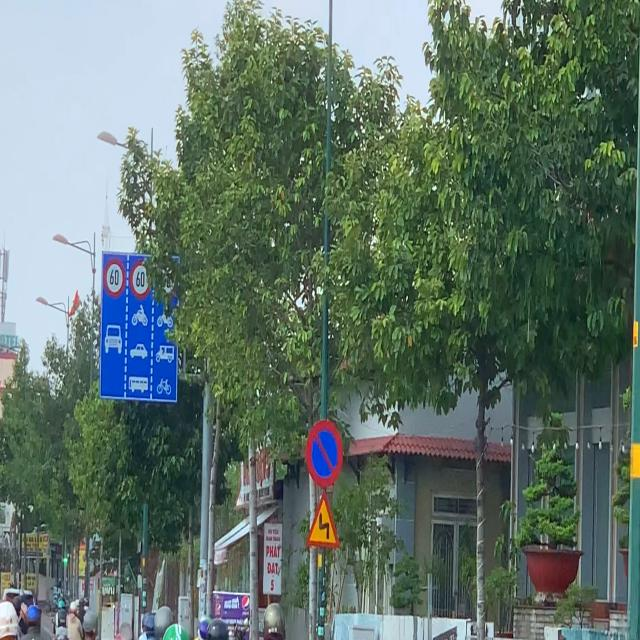Cam do: (298, 415, 346, 492)
Nguy hiem: (304, 489, 342, 553)
Toc do toi da: (100, 256, 130, 296), (129, 258, 152, 300)
